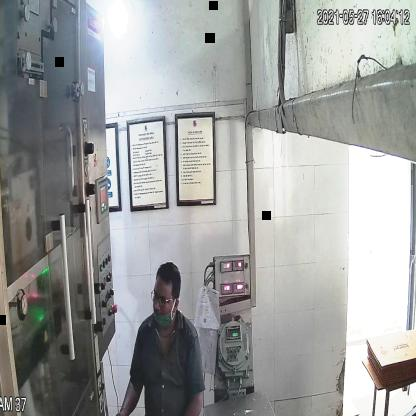goggles: (149, 286, 179, 313)
